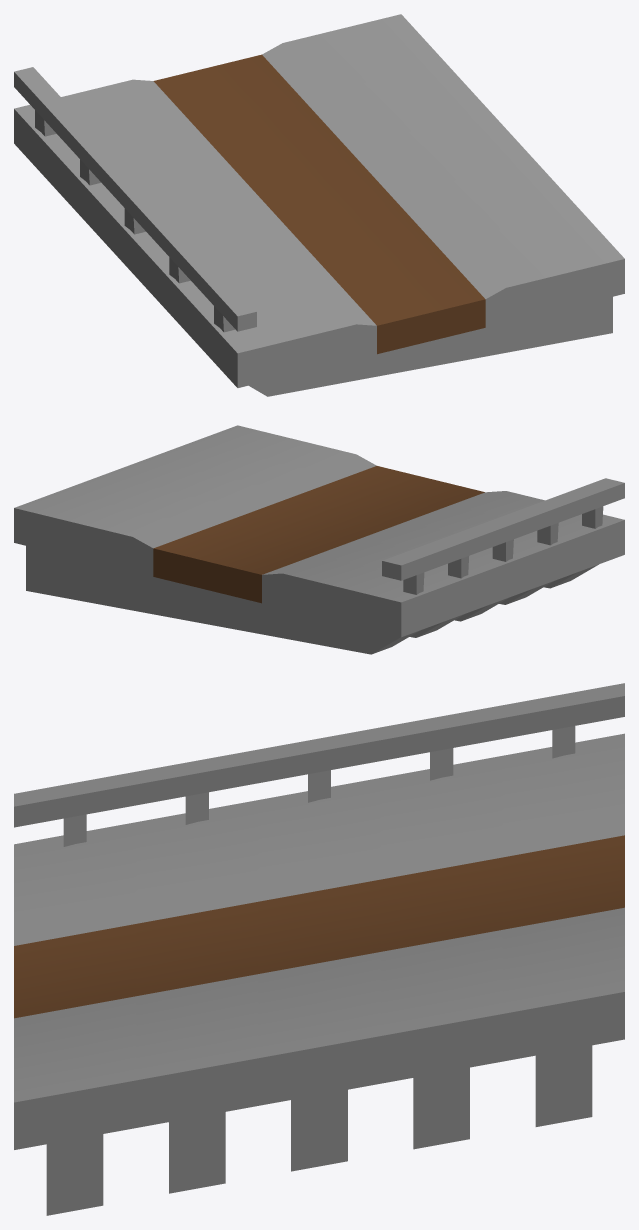
Rendered from BlocLine5P1R.FBX.
3 views of the same model, one above another, from view 1: azimuth 30°, elevation 25°; view 2: azimuth 150°, elevation 25°; view 3: azimuth 270°, elevation 25° (orthographic). The views are drawn at different scales.
Visible parts, largest first — view 1: BlocLine5P1R; view 2: BlocLine5P1R; view 3: BlocLine5P1R.
Part boxes in pixels (left/top/right/bottom): BlocLine5P1R: left=14, top=14, right=624, bottom=396; BlocLine5P1R: left=14, top=425, right=624, bottom=654; BlocLine5P1R: left=14, top=683, right=624, bottom=1215.
Bounding box in the file's own units: 5 × 2.48 × 5.
